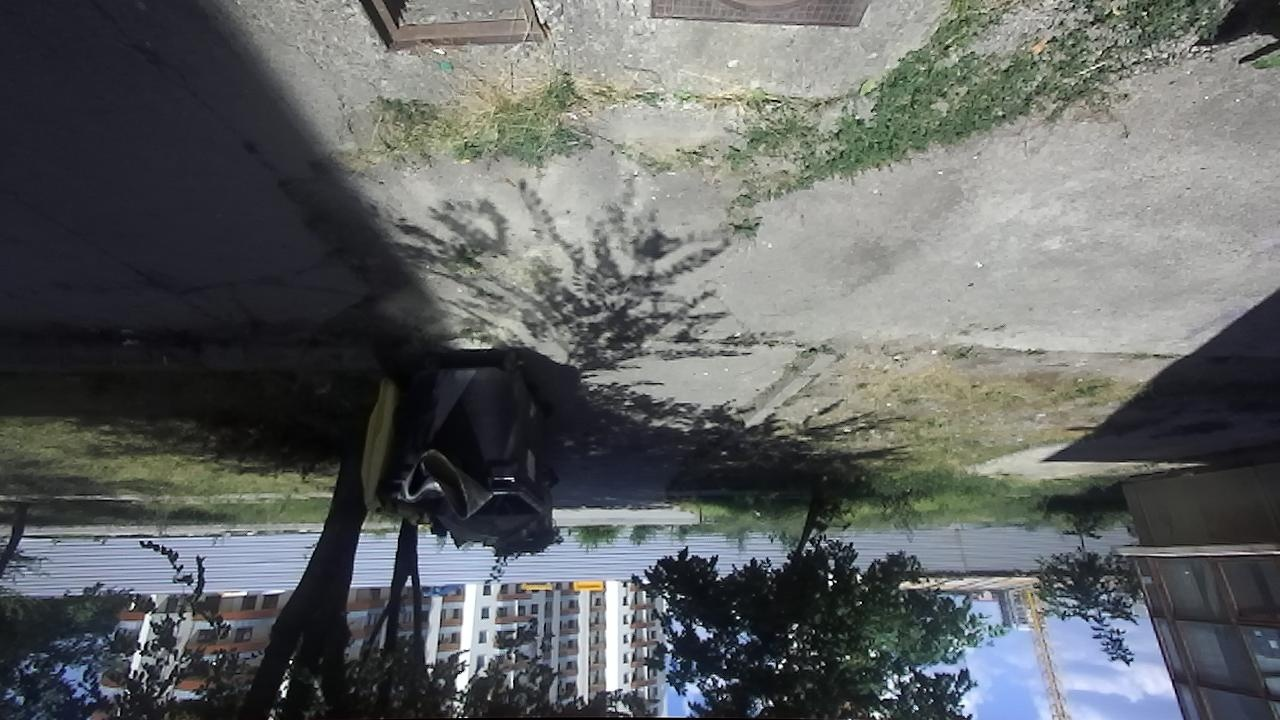drain: (346, 0, 555, 54)
